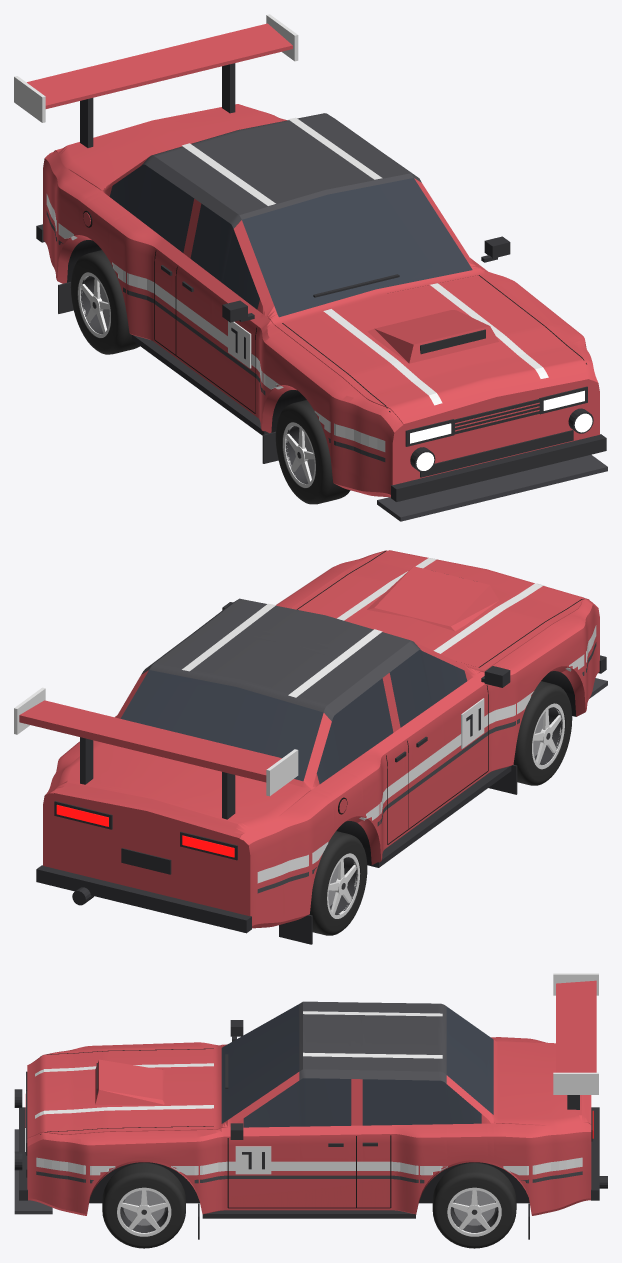
Rendered from awd-rally-saloon.glb.
3 views of the same model, one above another, from view 1: azimuth 30°, elevation 25°; view 2: azimuth 150°, elevation 25°; view 3: azimuth 270°, elevation 25° (orthographic). The views are drawn at different scales.
Parts seen in each view (by area): view 1: Body, Wheel_FR, Wheel_RR; view 2: Body, Wheel_FR, Wheel_RR; view 3: Body, Wheel_RL, Wheel_FL.
Boxes of the visible parts, x1,y1,x2,y2 form: Body: [14, 14, 607, 521]; Wheel_FR: [275, 400, 350, 504]; Wheel_RR: [70, 250, 139, 354]; Body: [14, 550, 607, 944]; Wheel_FR: [513, 681, 572, 785]; Wheel_RR: [309, 831, 367, 935]; Body: [14, 973, 607, 1239]; Wheel_RL: [432, 1162, 516, 1248]; Wheel_FL: [102, 1162, 185, 1248].
Bounding box in the file's own units: 2.05 × 1.54 × 4.67.
